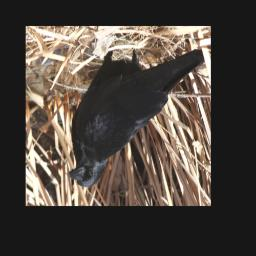Crow: (66, 48, 206, 188)
